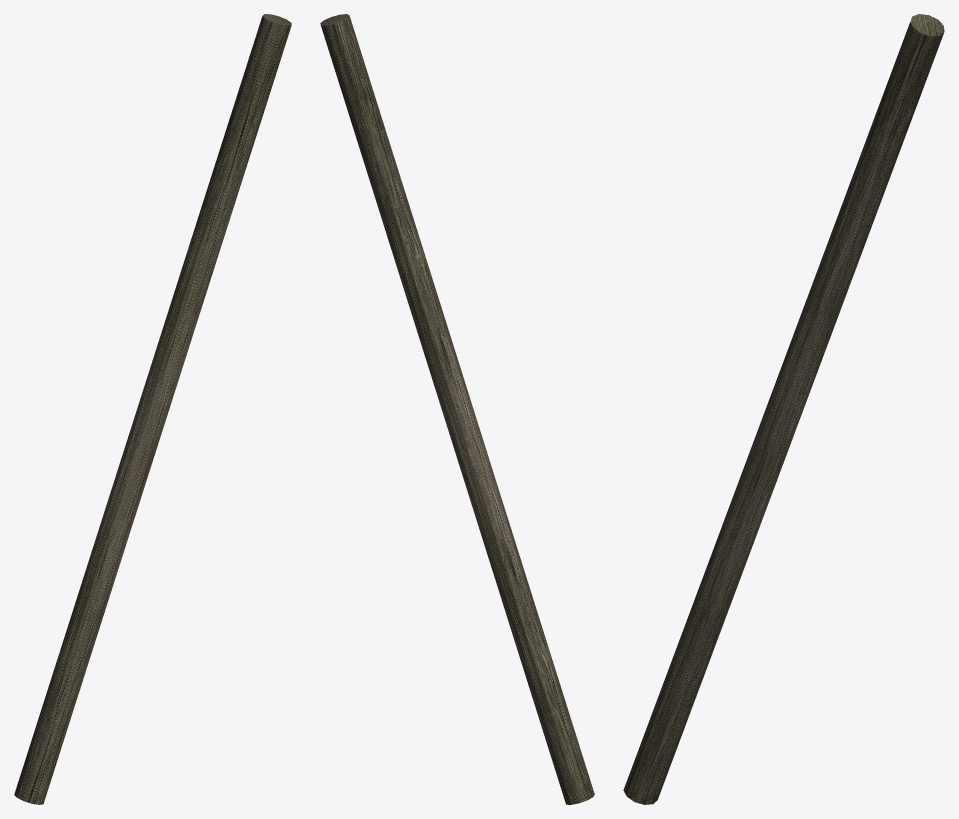
The model's file is blendergltfClub.gltf.
3 views of the same model, side by side, from view 1: azimuth 30°, elevation 25°; view 2: azimuth 150°, elevation 25°; view 3: azimuth 330°, elevation 25° (orthographic). The views are drawn at different scales.
Parts seen in each view (by area): view 1: 柱体.015; view 2: 柱体.015; view 3: 柱体.015.
Boxes of the visible parts, box(x1,y1,x2,y2) form: 柱体.015: box(14, 14, 291, 804); 柱体.015: box(320, 14, 594, 804); 柱体.015: box(623, 14, 944, 804).
Size of the model in its own units: 0.4133 by 1.06 by 0.0437.
Materials: 1 (1 with a texture image).
